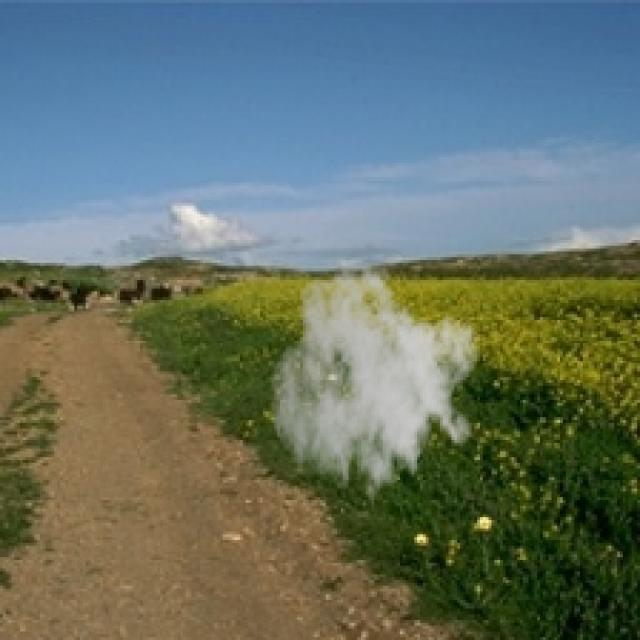smoke: (269, 254, 480, 520)
